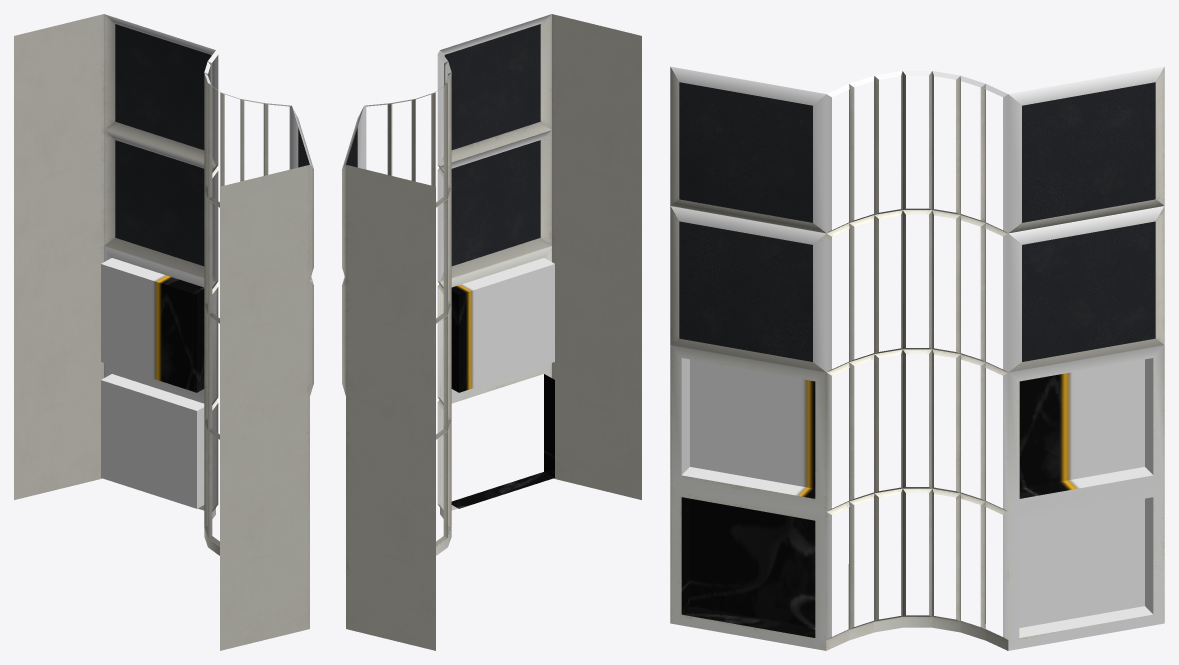
Rendered from East.Wall.002.fbx.
The picture shows the model from 3 angles, left to right: view 1: azimuth 30°, elevation 25°; view 2: azimuth 150°, elevation 25°; view 3: azimuth 270°, elevation 25°; orthographic projection. The views are drawn at different scales.
Parts seen in each view (by area): view 1: Tanning Bed; view 2: Tanning Bed; view 3: Tanning Bed.
Boxes of the visible parts, left/top/right/bottom form: Tanning Bed: left=14, top=14, right=313, bottom=650; Tanning Bed: left=342, top=14, right=641, bottom=650; Tanning Bed: left=670, top=66, right=1164, bottom=650.
Bounding box in the file's own units: 3.09 × 8 × 9.95.
